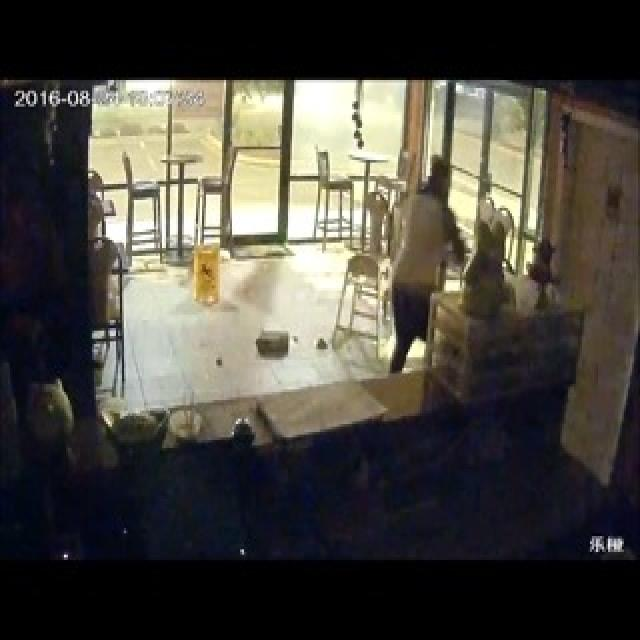thief: (382, 159, 460, 303)
